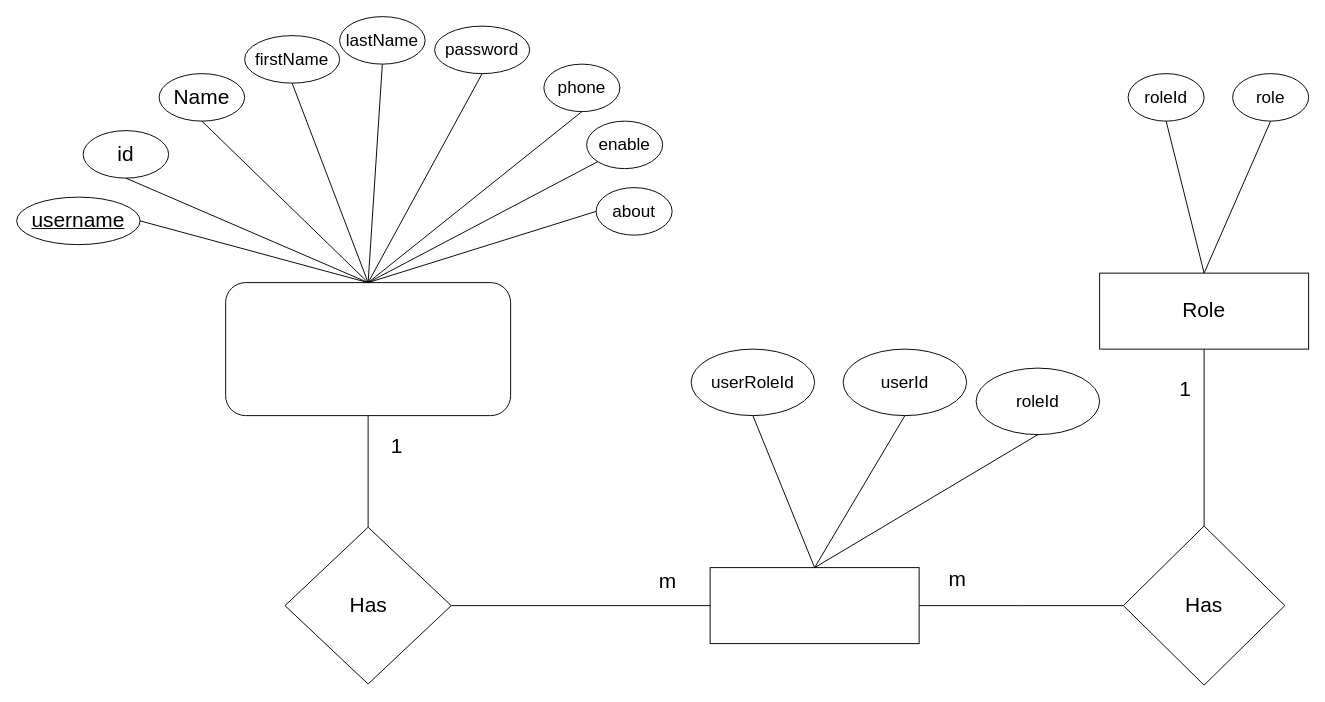
The diagram is 1325 pixels wide and 702 high, and some of its shapes have lost their labels. The shapes that lost their labels are listed below. From the top down, each one's centre as x and y in pixels, then its label:
At point (368, 349): "USER".
At point (814, 605): "User_Role".
